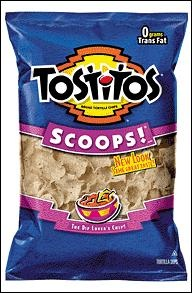grozi_115: (0, 0, 192, 293)
